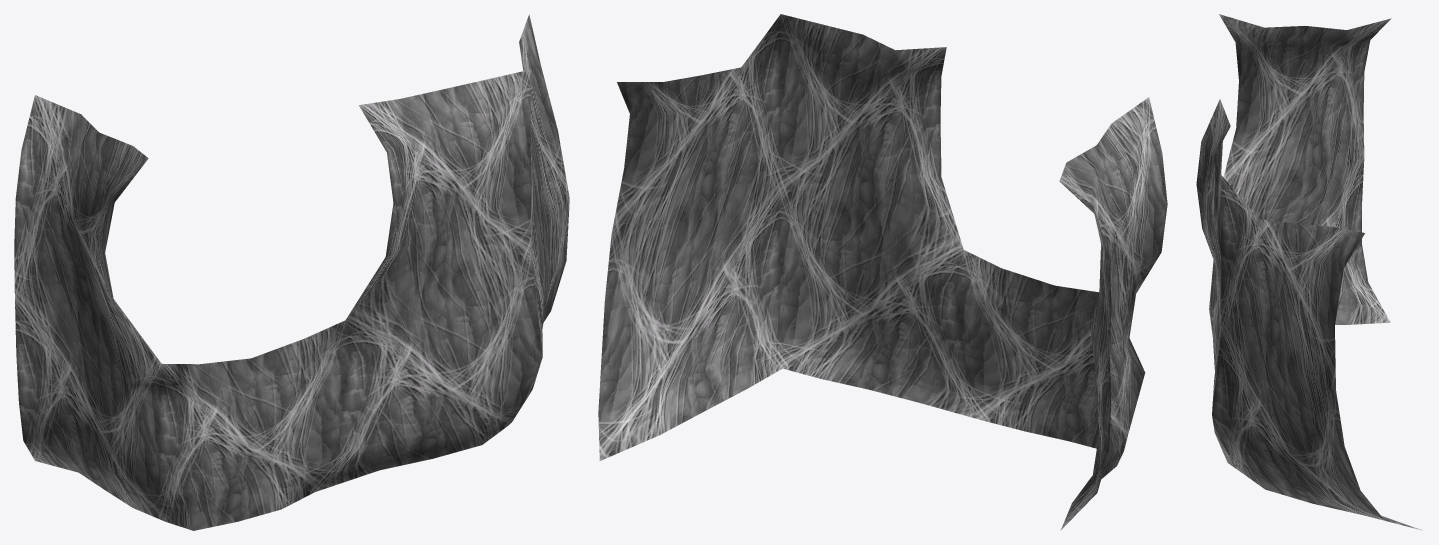
Rendered from SWORDLIGHT20_PS-AREA01_10.fbx.
3 renders of one model, left to right at view 1: azimuth 30°, elevation 25°; view 2: azimuth 150°, elevation 25°; view 3: azimuth 270°, elevation 25°, orthographic. The views are drawn at different scales.
Visible parts, largest first — view 1: SWORDLIGHT20_PS-AREA01_10; view 2: SWORDLIGHT20_PS-AREA01_10; view 3: SWORDLIGHT20_PS-AREA01_10.
Boxes of the visible parts, x1,y1,x2,y2 form: SWORDLIGHT20_PS-AREA01_10: (14,14,569,530); SWORDLIGHT20_PS-AREA01_10: (598,14,1167,530); SWORDLIGHT20_PS-AREA01_10: (1196,14,1422,530).
Bounding box in the file's own units: 128982 × 91513 × 56503.
1 material, 1 textured.
